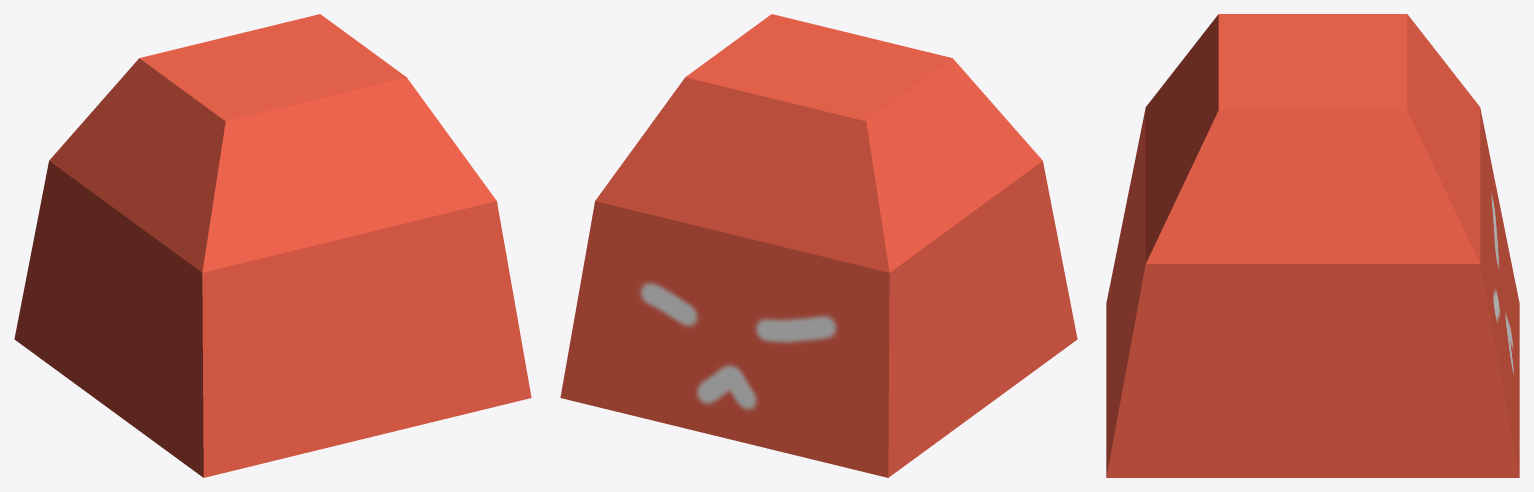
The model's file is MonsterBody.obj.
3 views of the same model, side by side, from view 1: azimuth 30°, elevation 25°; view 2: azimuth 150°, elevation 25°; view 3: azimuth 270°, elevation 25° (orthographic). The views are drawn at different scales.
Visible parts, largest first — view 1: M_Body; view 2: M_Body; view 3: M_Body.
Boxes of the visible parts, <box> form: M_Body: <box>14,14,531,477</box>; M_Body: <box>560,14,1077,477</box>; M_Body: <box>1106,14,1519,477</box>.
Bounding box in the file's own units: 2 × 1.75 × 2.
1 material, 1 textured.
